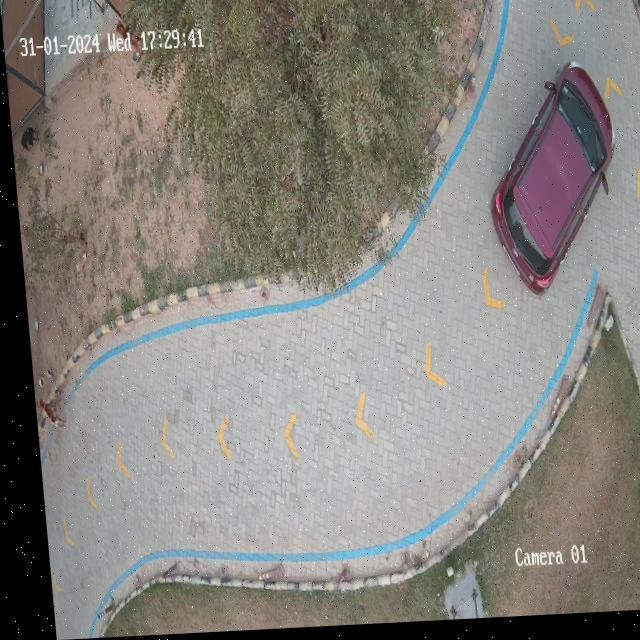car: (487, 70, 612, 298)
